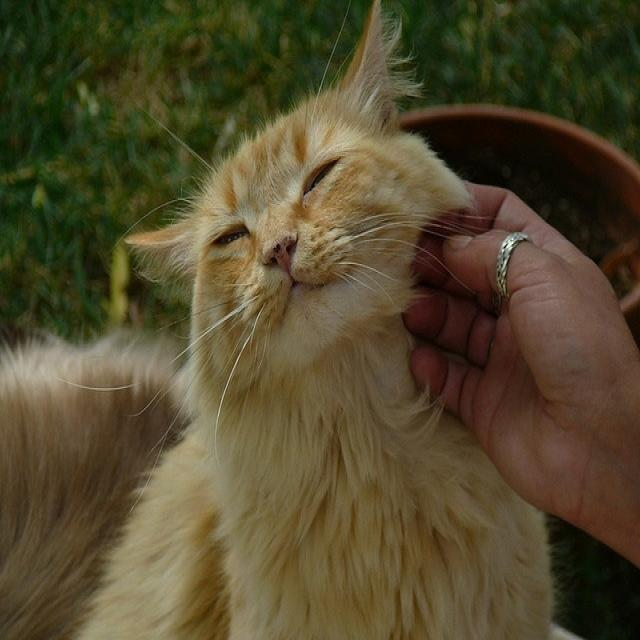cat: (80, 0, 552, 639)
